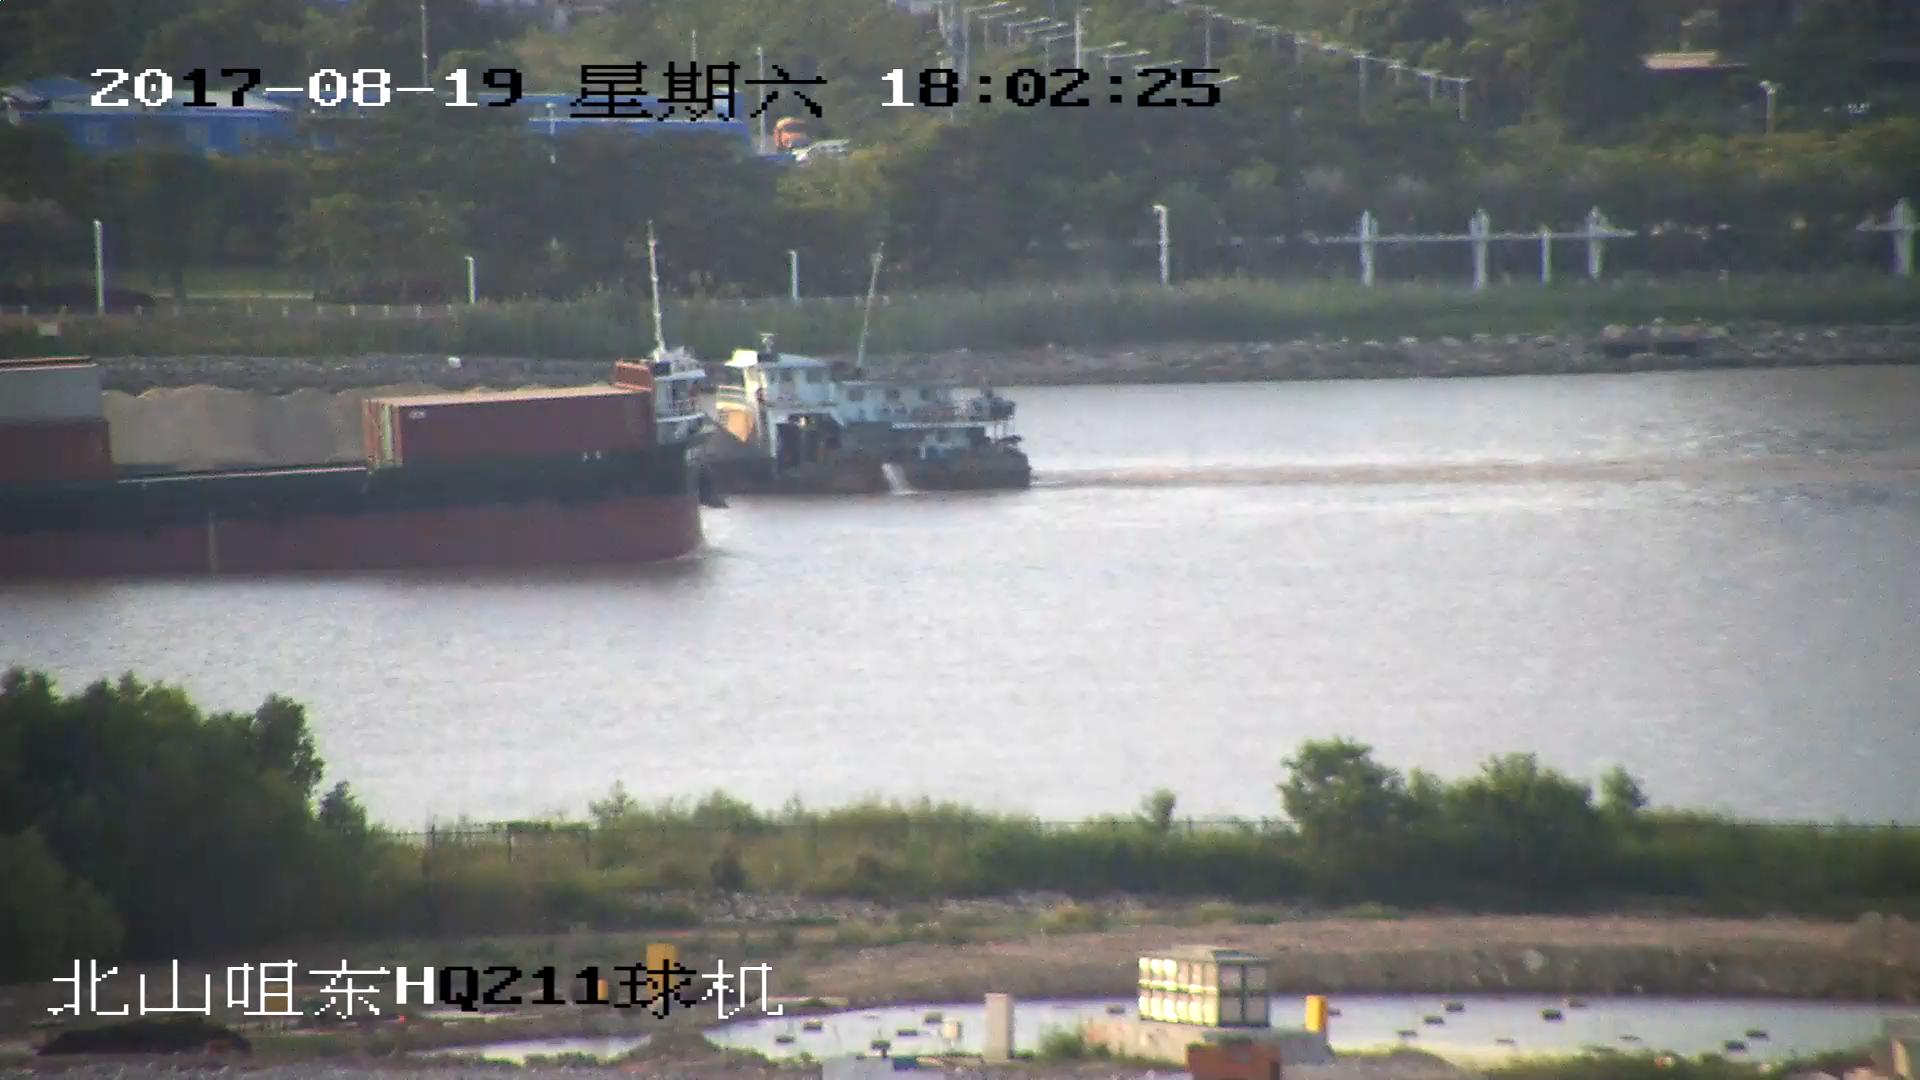container ship: (1, 351, 714, 563)
